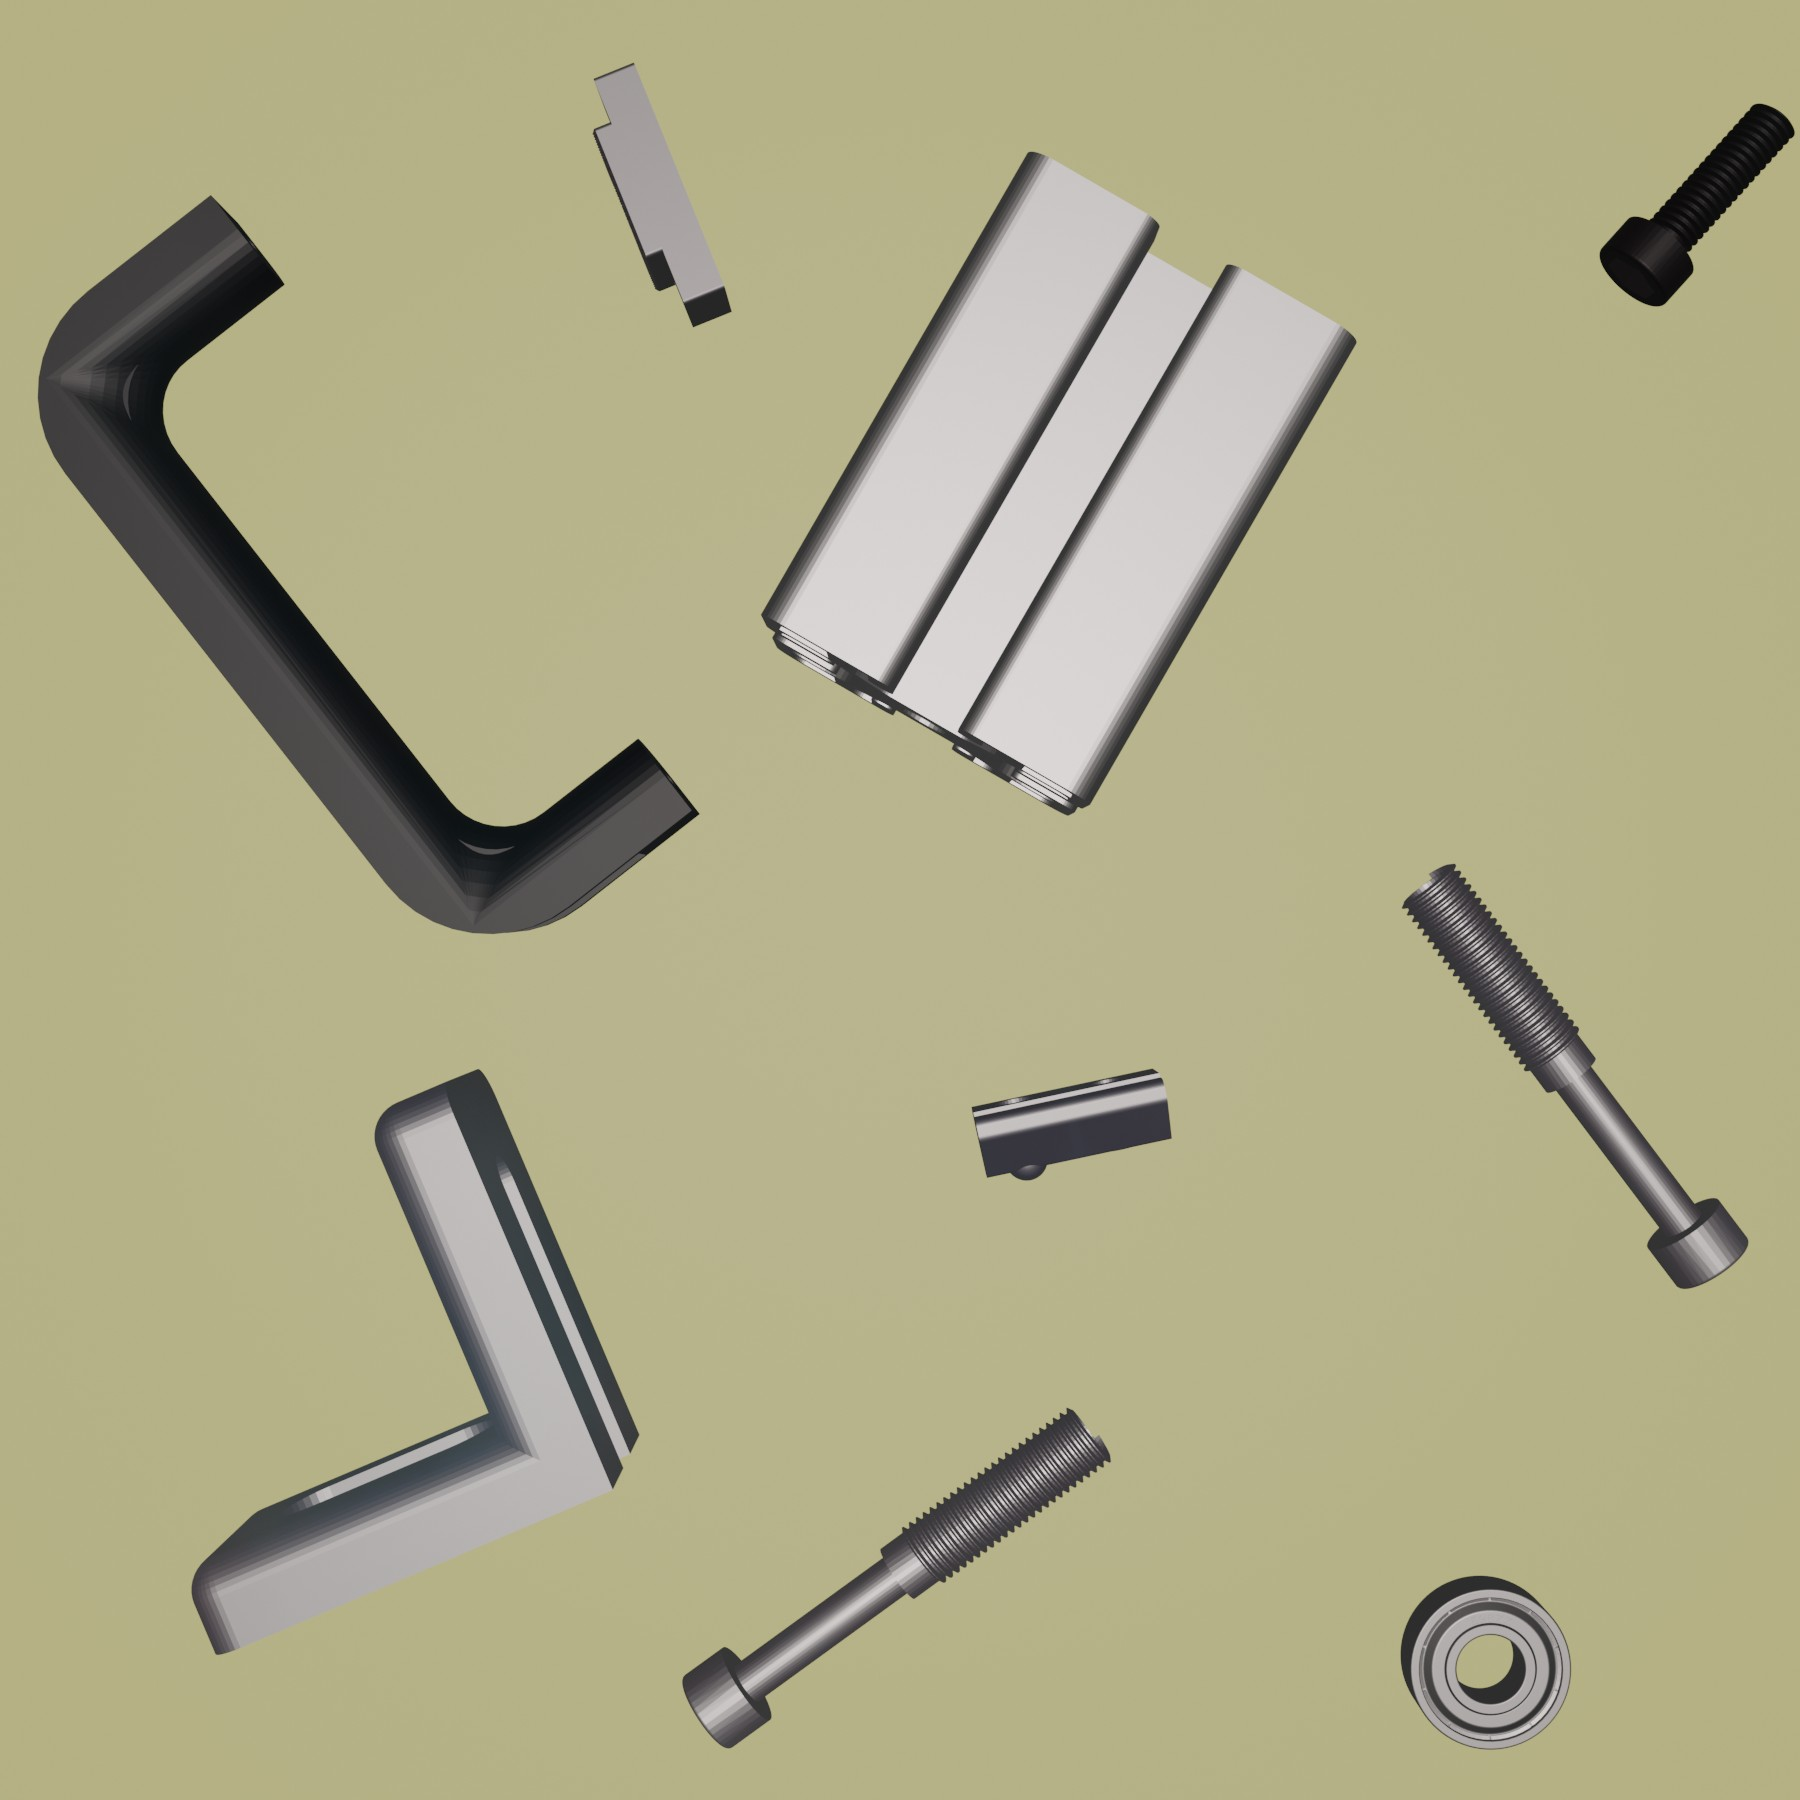Aluminium Extension: (762, 147, 1358, 819)
Ball Bearing: (1398, 1573, 1576, 1752)
Multiwinkel: (188, 1068, 641, 1658)
Pull Handle: (35, 191, 702, 935)
Shoulder Socket Head Cap Screw: (1398, 860, 1751, 1292), (679, 1404, 1113, 1749)
Socket Head Cap Screw: (1597, 101, 1797, 307)
T Nut Square: (590, 58, 735, 330)
T Spring Nut: (969, 1063, 1174, 1180)
